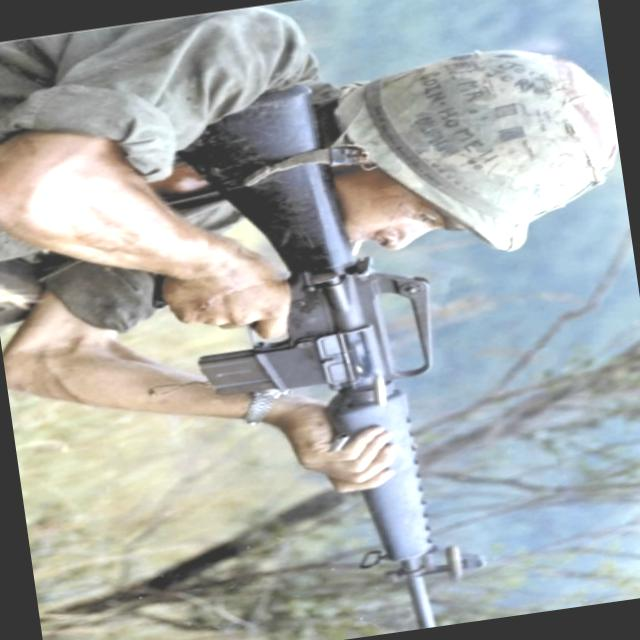long weapon: (179, 70, 519, 639)
